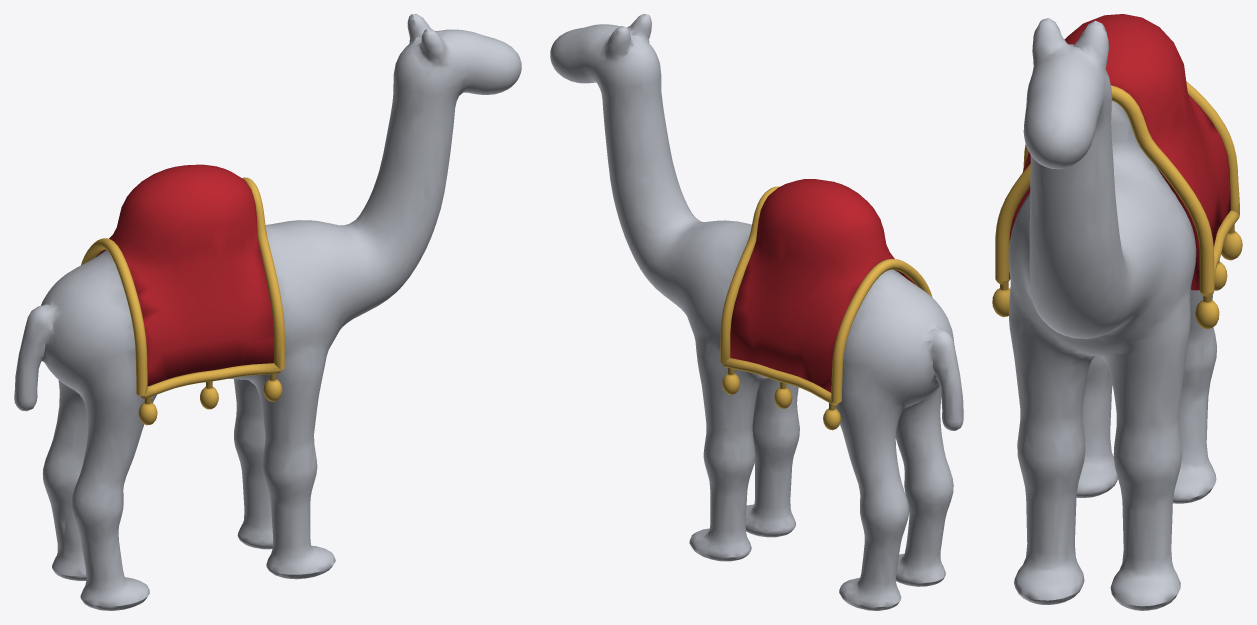
File: piece-3.glb
3 renders of one model, left to right at view 1: azimuth 30°, elevation 25°; view 2: azimuth 150°, elevation 25°; view 3: azimuth 270°, elevation 25°, orthographic. The views are drawn at different scales.
Visible parts, largest first — view 1: Camel.001; view 2: Camel.001; view 3: Camel.001.
Boxes of the visible parts, x1,y1,x2,y2 form: Camel.001: (14,14,521,610); Camel.001: (550,14,963,610); Camel.001: (992,14,1242,610).
Size of the model in its own units: 2.26 by 2.38 by 0.8224.
